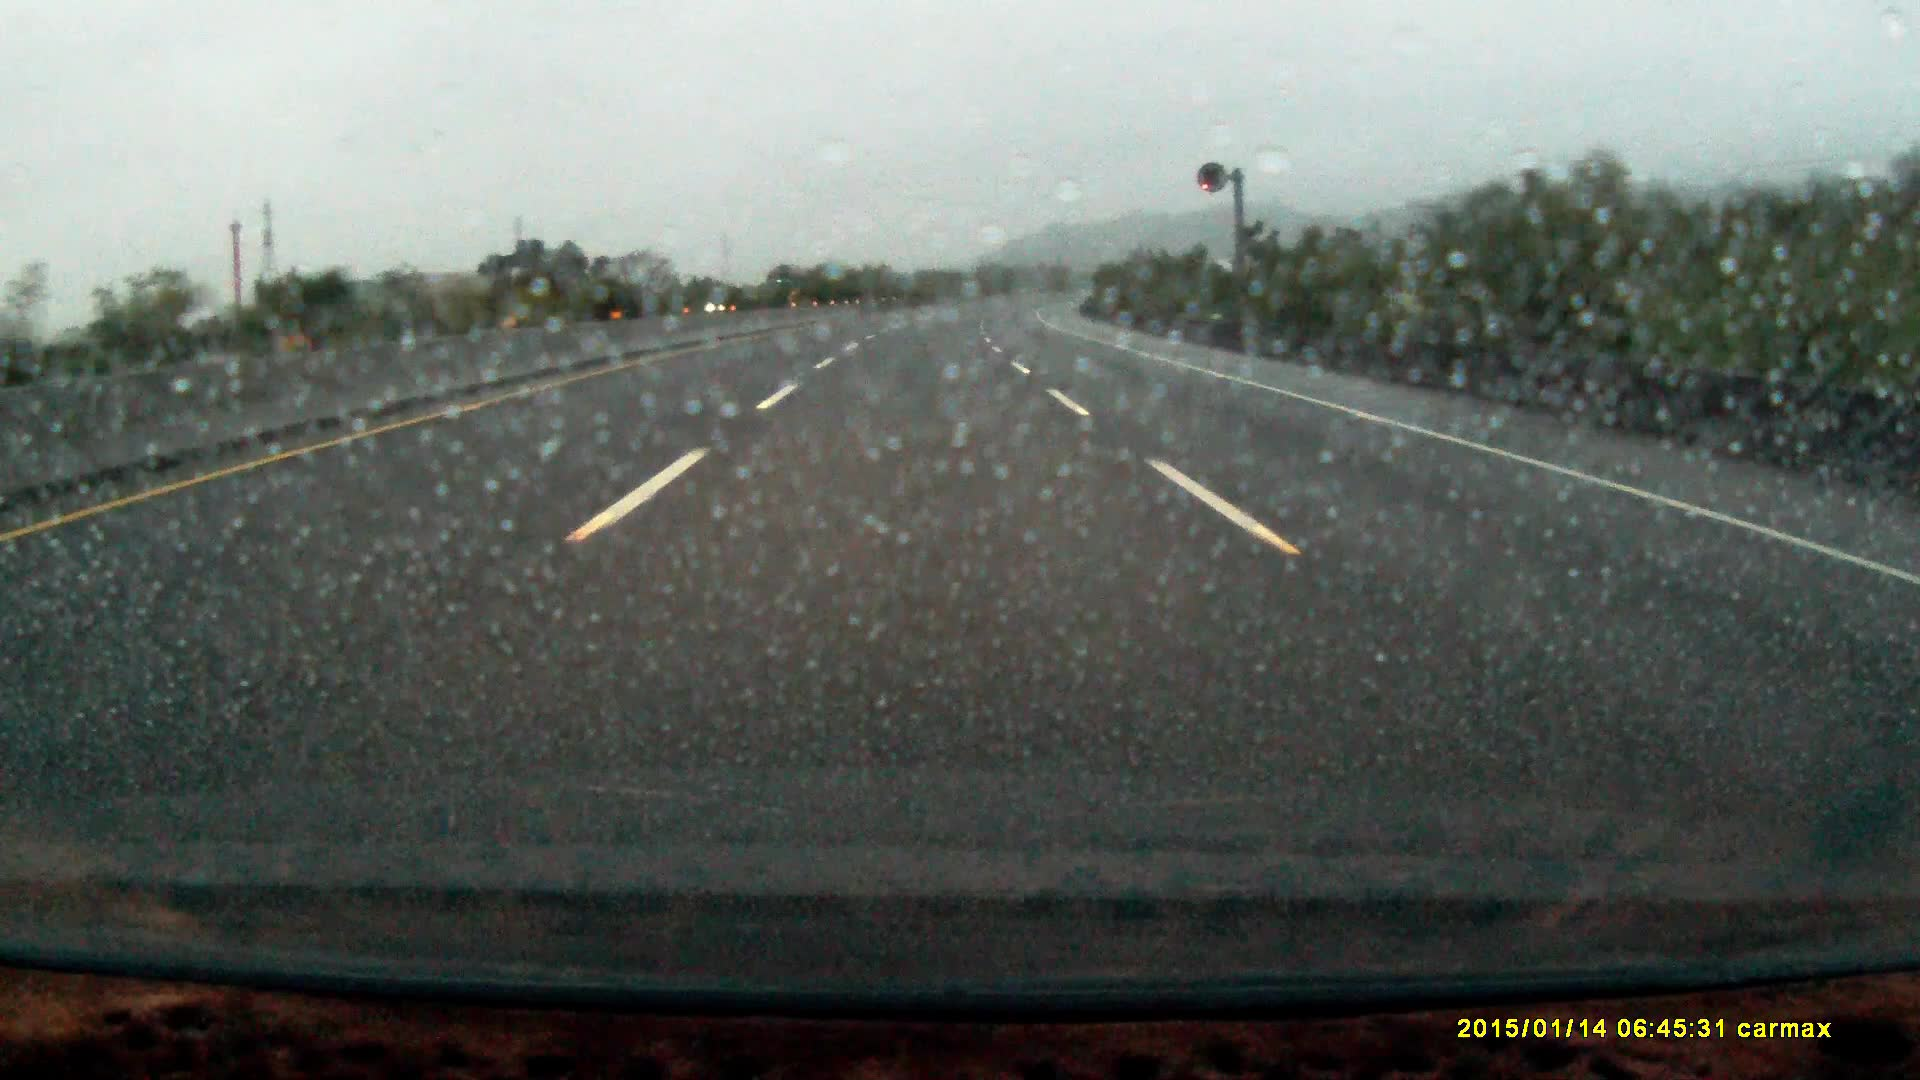vehicle: (769, 264, 811, 305)
